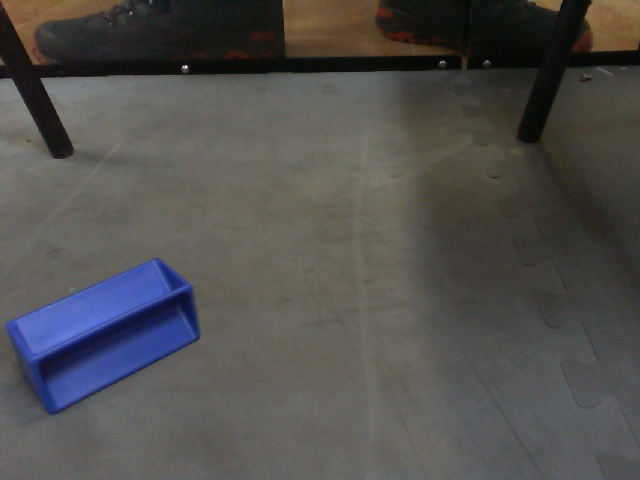BlueSample: (1, 256, 208, 418)
